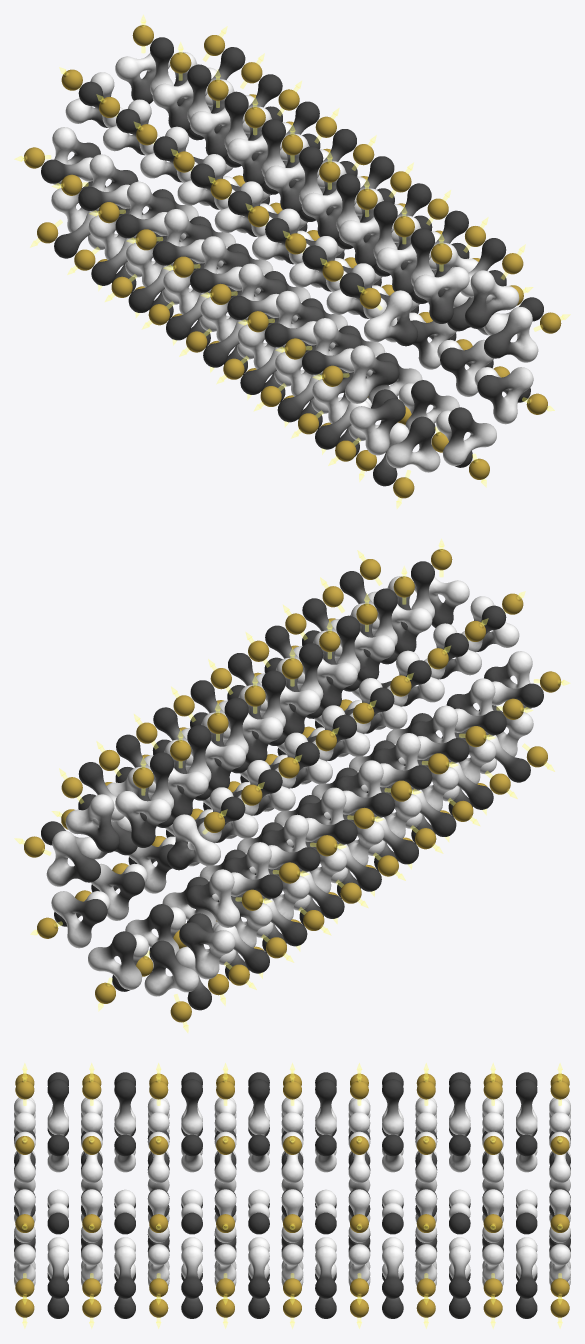
File: cylindrical_quantum_network.glb
3 renders of one model, top to bottom at view 1: azimuth 30°, elevation 25°; view 2: azimuth 150°, elevation 25°; view 3: azimuth 270°, elevation 25°, orthographic. The views are drawn at different scales.
Parts seen in each view (by area): view 1: Triplet_0, Dumbbell_0, Spin_0, Spin_1; view 2: Triplet_0, Dumbbell_0, Spin_0, Spin_1; view 3: Dumbbell_0, Triplet_0, Spin_0, Spin_1.
Boxes of the visible parts, x1,y1,x2,y2 form: Triplet_0: (51, 52, 538, 472); Dumbbell_0: (41, 37, 543, 486); Spin_0: (23, 25, 561, 498); Spin_1: (14, 15, 570, 508); Triplet_0: (46, 576, 533, 996); Dumbbell_0: (41, 561, 543, 1010); Spin_0: (24, 549, 561, 1022); Spin_1: (14, 539, 570, 1032); Dumbbell_0: (47, 1072, 537, 1318); Triplet_0: (14, 1097, 570, 1286); Spin_0: (15, 1073, 569, 1317); Spin_1: (22, 1063, 562, 1328).
Size of the model in its own units: 28.07 by 27.64 by 58.28.
Materials: 4 (2 with a texture image).
